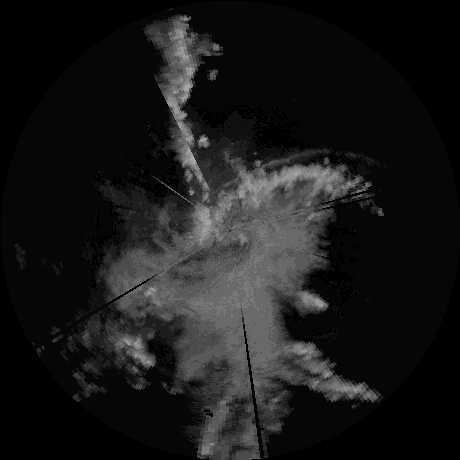frontgust: (219, 147, 327, 185)
